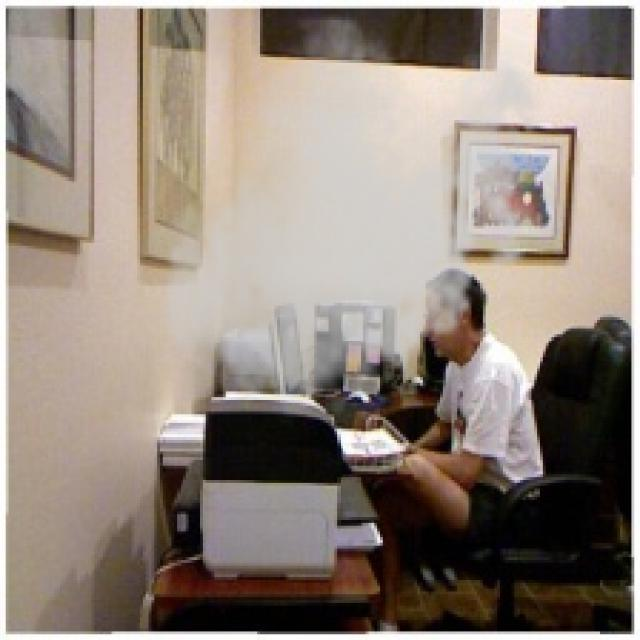Smoke: (154, 14, 552, 426)
